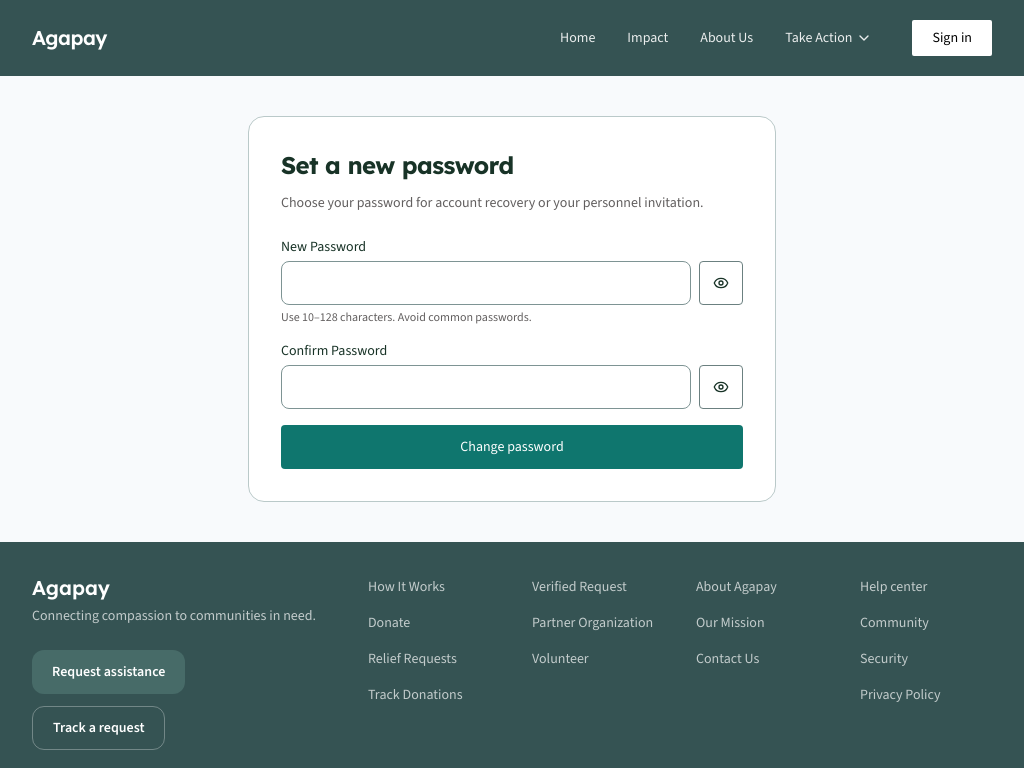
Scenario: ResetPasswordPage › blocks mismatched passwords without submitting
In the password field labelled "New Password": (486, 283) x1=281 y1=261 x2=691 y2=305, type "brand-new-password-9"
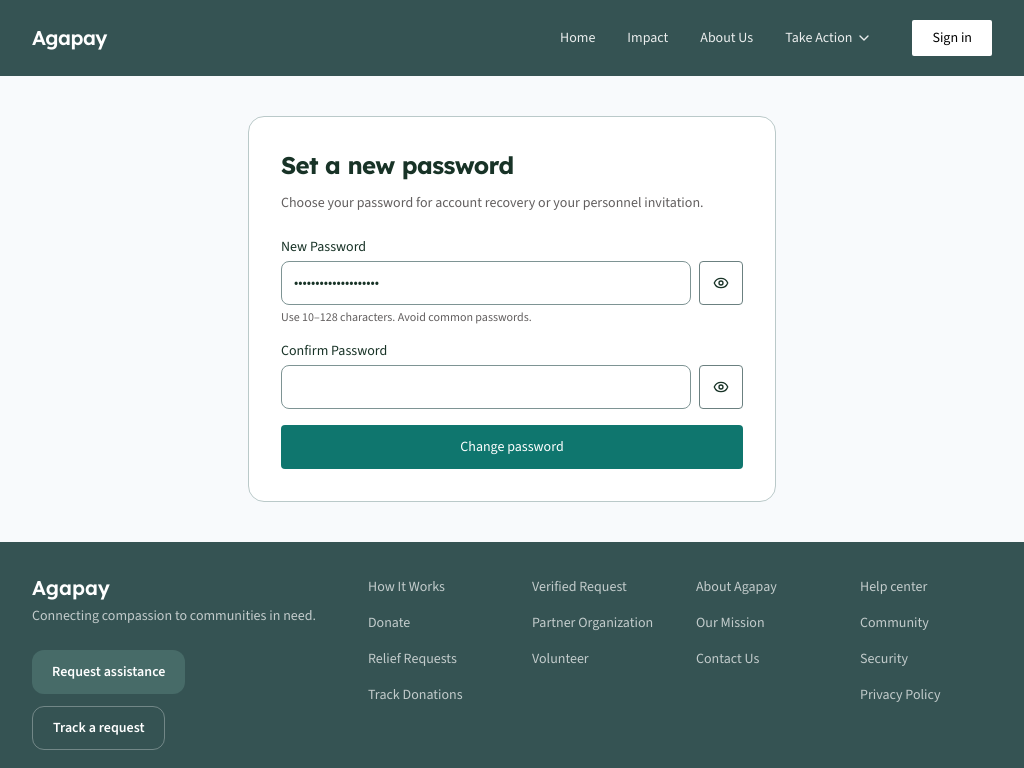
In the password field labelled "Confirm Password": (486, 387) x1=281 y1=365 x2=691 y2=409, type "different-password-9"
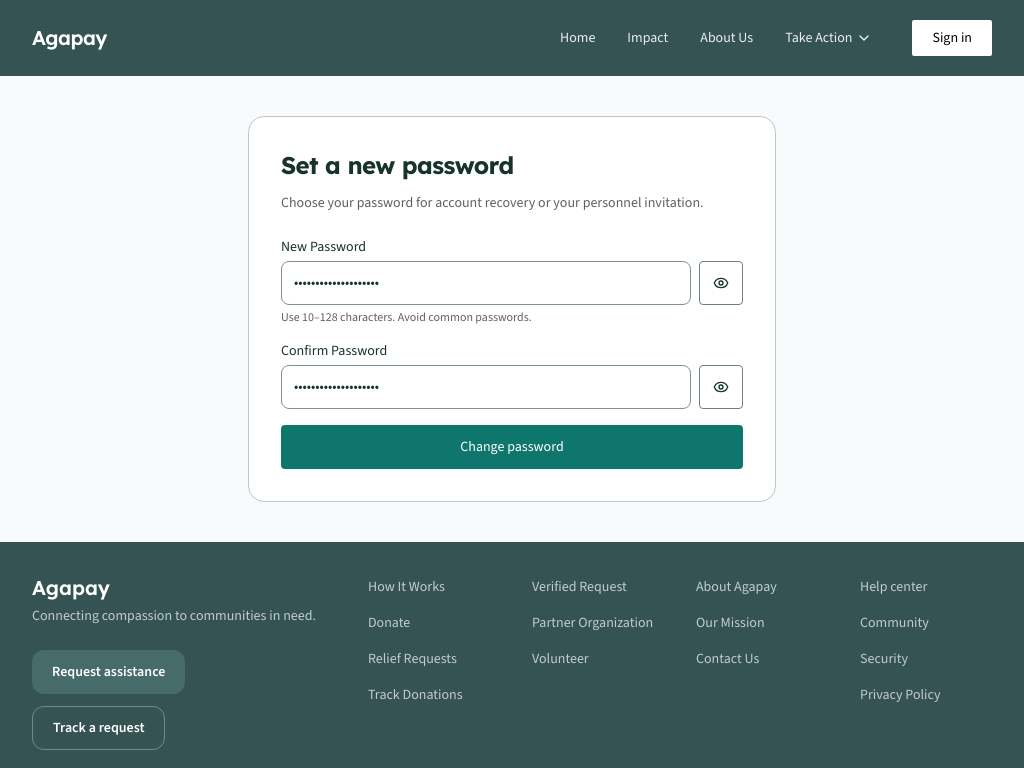
Click the button "Change password": (512, 447) x1=281 y1=425 x2=743 y2=469
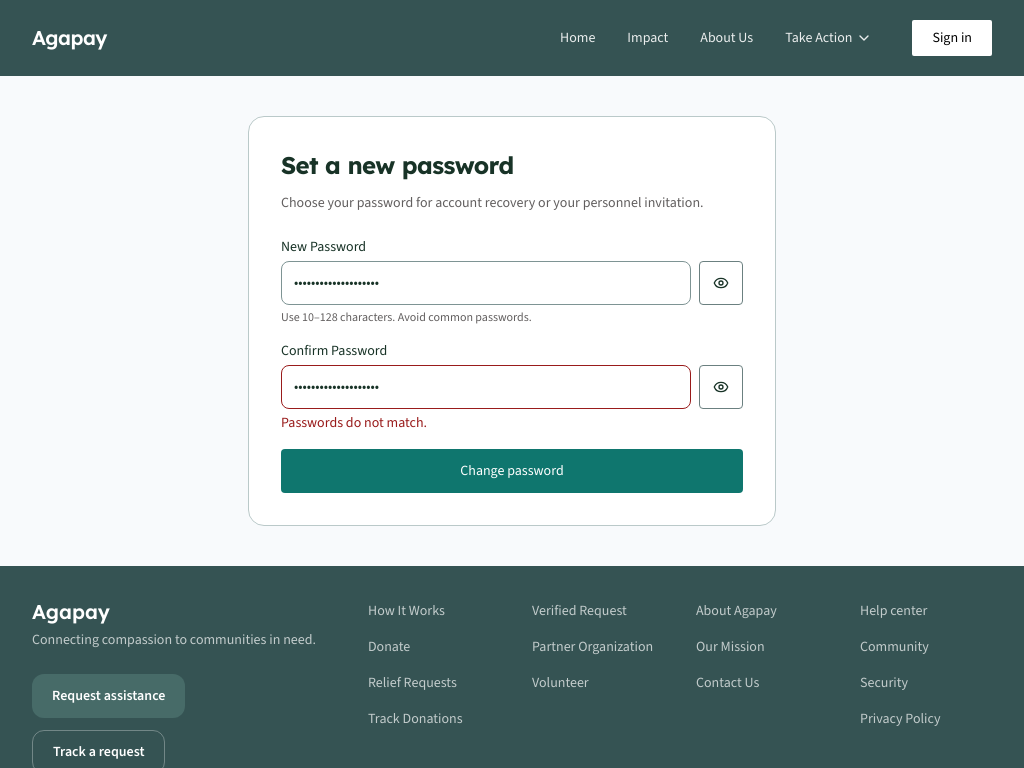
Expected: the text "Passwords do not match." is shown, x1=281 y1=413 x2=427 y2=432
